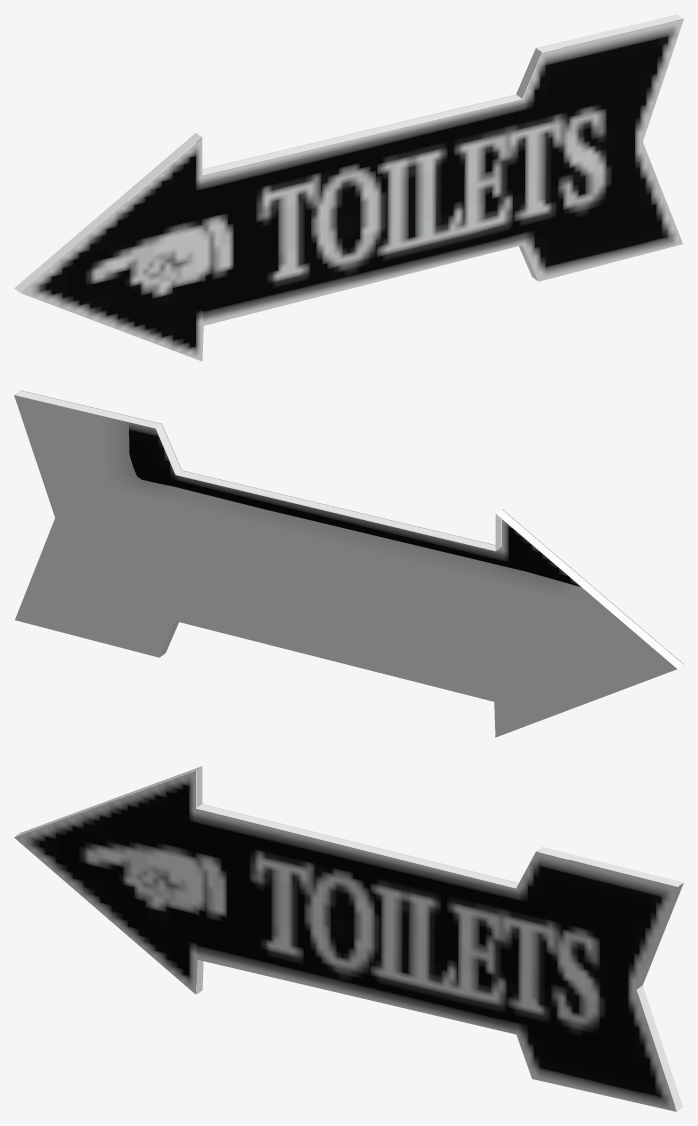
File: SM_Sign_Toilet_03L.glb
3 views of the same model, one above another, from view 1: azimuth 30°, elevation 25°; view 2: azimuth 150°, elevation 25°; view 3: azimuth 330°, elevation 25° (orthographic).
Parts seen in each view (by area): view 1: SM_Sign_Toilet_03L; view 2: SM_Sign_Toilet_03L; view 3: SM_Sign_Toilet_03L.
Boxes of the visible parts, x1,y1,x2,y2 form: SM_Sign_Toilet_03L: (14,14,683,361); SM_Sign_Toilet_03L: (14,390,683,737); SM_Sign_Toilet_03L: (14,766,683,1111).
Size of the model in its own units: 0.2698 by 0.0887 by 0.00455.
1 material, 1 textured.
